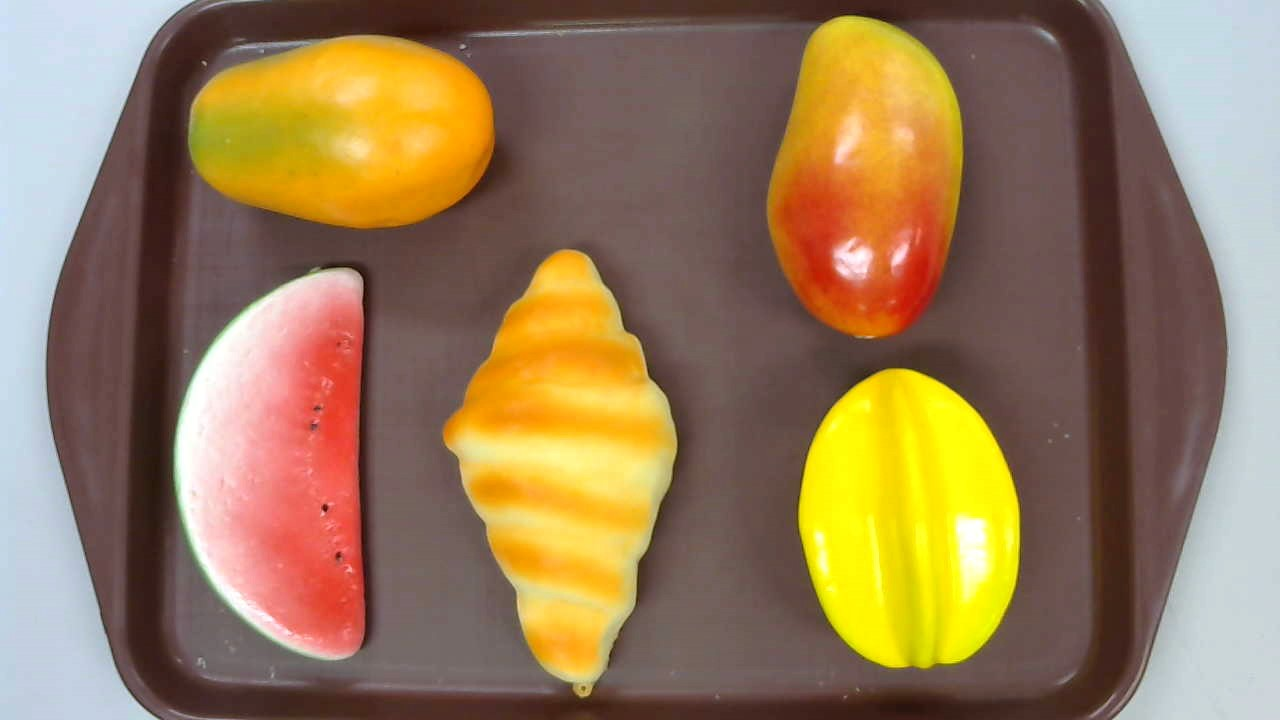croissant: (441, 249, 678, 697)
papya: (187, 35, 494, 228)
red mango: (766, 14, 963, 339)
star fruit: (798, 367, 1020, 668)
water melon: (171, 265, 365, 661)
